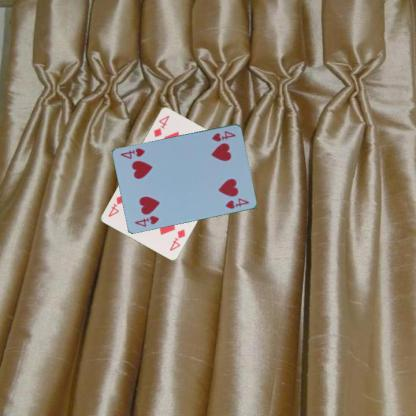4d: (167, 226, 187, 252), (151, 113, 170, 138)
4h: (132, 212, 161, 228), (209, 128, 237, 143)
